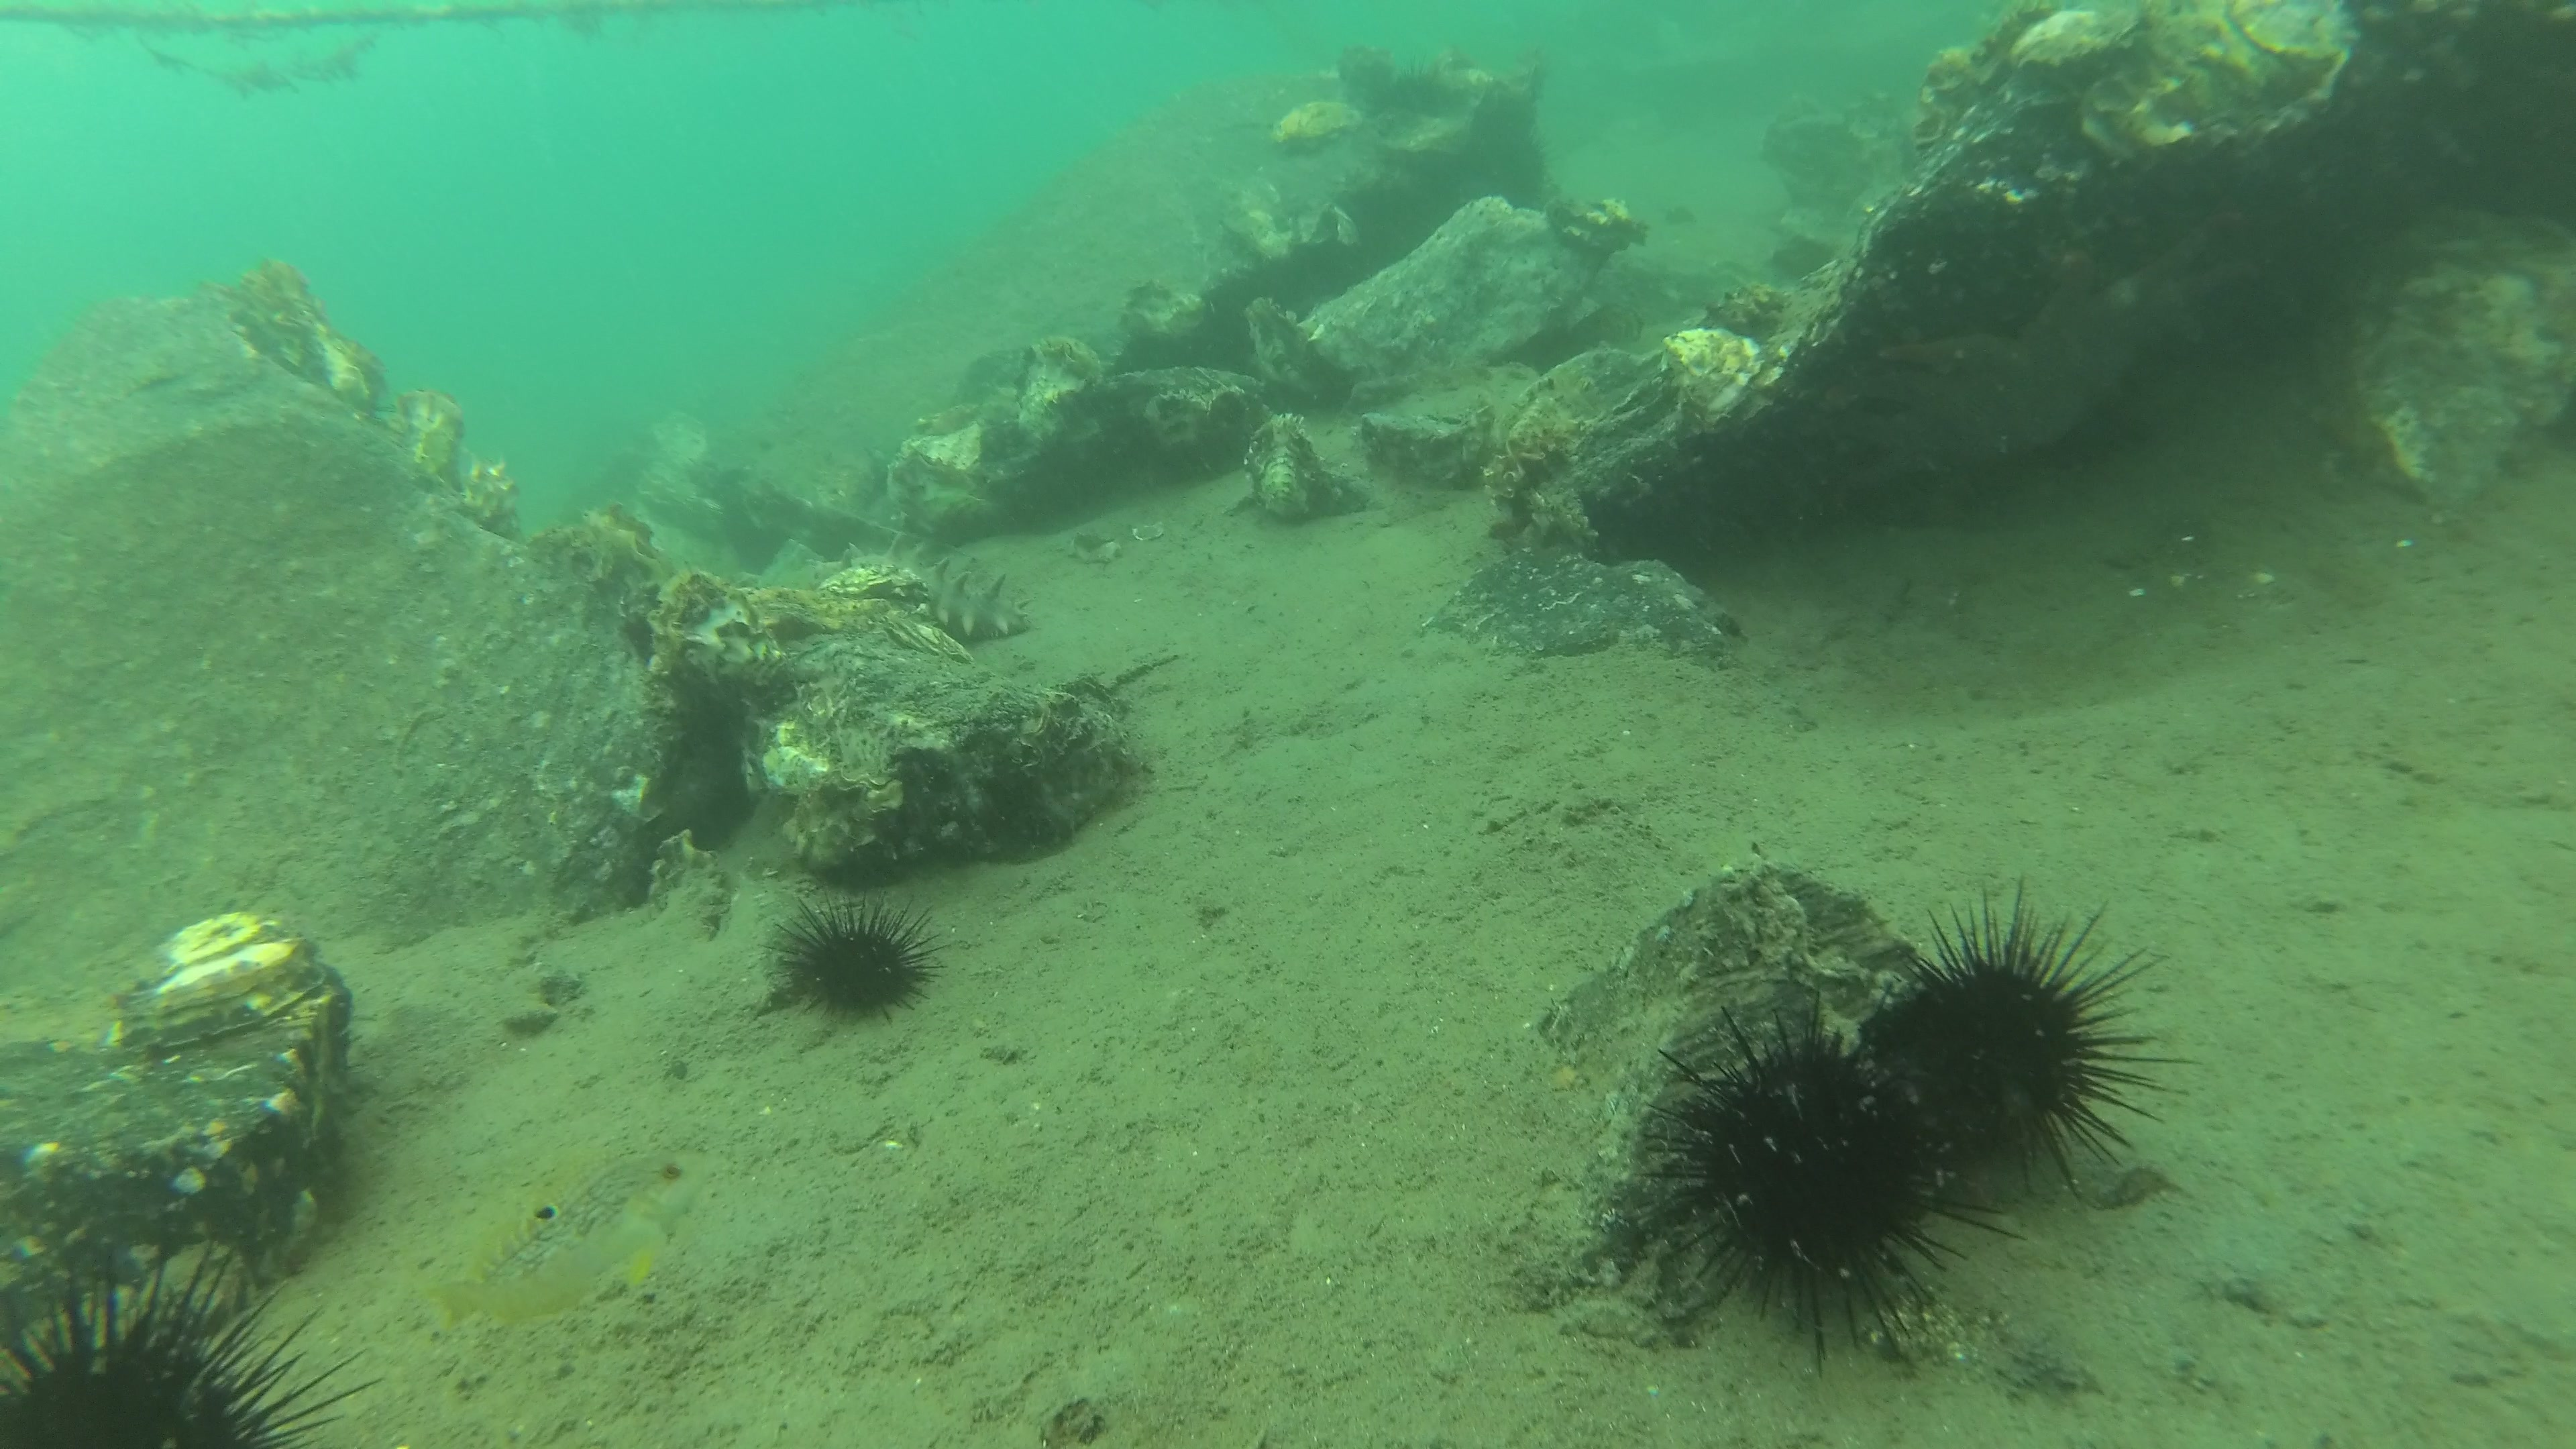echinus: (1626, 993, 2033, 1384), (1884, 867, 2203, 1205), (0, 1223, 386, 1449), (755, 885, 952, 1024), (1378, 55, 1447, 117), (1507, 129, 1552, 198), (1663, 203, 1697, 226)
holothurian: (809, 531, 1035, 640)
starfish: (1854, 221, 2243, 488)
